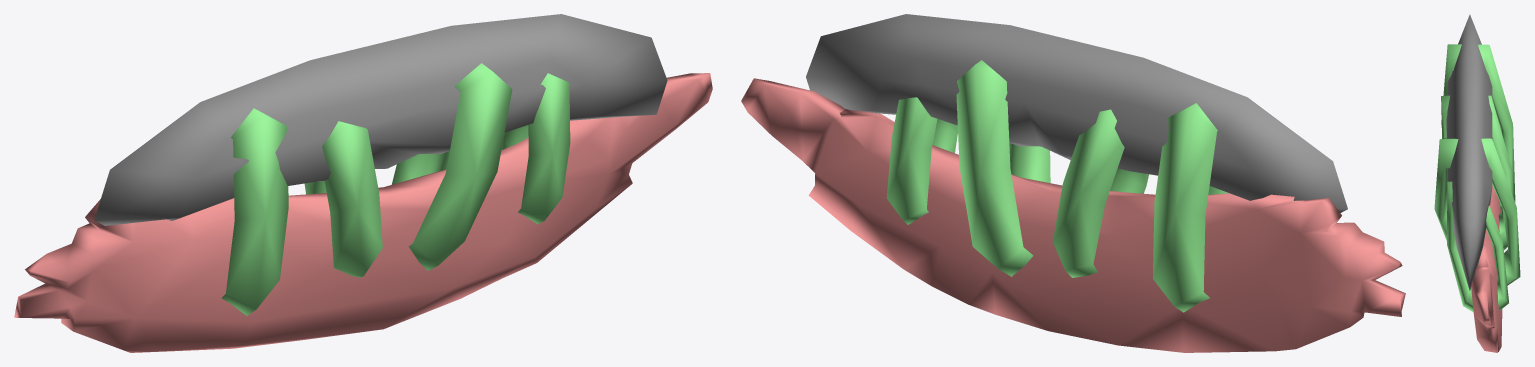
Rendered from tool_tannery_Item_generic_B.gltf.
3 renders of one model, left to right at view 1: azimuth 30°, elevation 25°; view 2: azimuth 150°, elevation 25°; view 3: azimuth 270°, elevation 25°, orthographic. The views are drawn at different scales.
Visible parts, largest first — view 1: tool_tannery_Item_generic_B; view 2: tool_tannery_Item_generic_B; view 3: tool_tannery_Item_generic_B.
Part boxes in pixels (x1,y1,x2,y2): tool_tannery_Item_generic_B: [14, 14, 712, 352]; tool_tannery_Item_generic_B: [741, 14, 1405, 352]; tool_tannery_Item_generic_B: [1434, 14, 1520, 352].
Size of the model in its own units: 0.4212 by 0.1708 by 0.0561.
